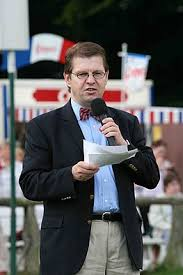F_M_suit jacket: (6, 99, 160, 273)
F_belt: (80, 205, 133, 228)
